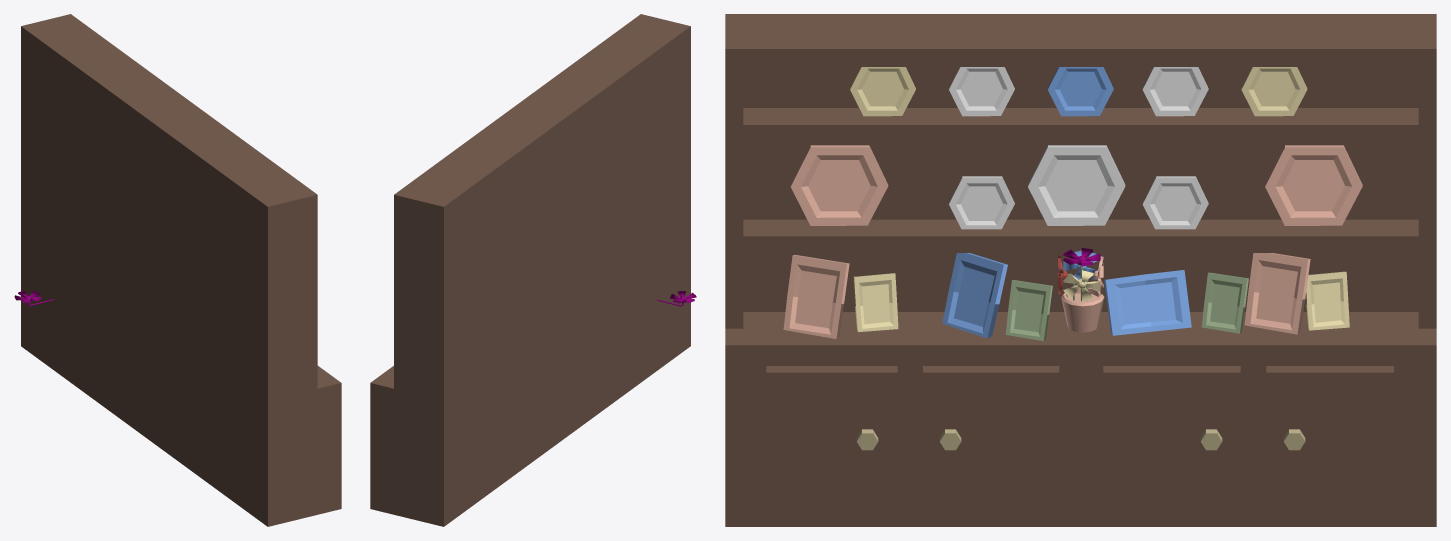
The model's file is geo_ChinaCabinet_01.fbx.
The picture shows the model from 3 angles, left to right: view 1: azimuth 30°, elevation 25°; view 2: azimuth 150°, elevation 25°; view 3: azimuth 270°, elevation 25°; orthographic projection. The views are drawn at different scales.
Parts seen in each view (by area): view 1: geo_CabinetDinning_01; view 2: geo_CabinetDinning_01; view 3: geo_CabinetDinning_01, geo_Plate03, geo_Plate01, geo_Plate02, geo_photoframe_17, geo_photoframe_14, geo_photoframe_20, geo_photoframe_18, geo_Plate04, geo_Plate05, geo_Plate09, geo_Plate06 (+8 smaller).
Boxes of the visible parts, <box> form: geo_CabinetDinning_01: <box>21,14,341,526</box>; geo_CabinetDinning_01: <box>370,14,690,526</box>; geo_CabinetDinning_01: <box>725,14,1436,526</box>; geo_Plate03: <box>1028,145,1125,225</box>; geo_Plate01: <box>790,145,888,225</box>; geo_Plate02: <box>1265,145,1362,225</box>; geo_photoframe_17: <box>1104,270,1191,335</box>; geo_photoframe_14: <box>783,255,849,338</box>; geo_photoframe_20: <box>1244,253,1310,334</box>; geo_photoframe_18: <box>942,253,1007,338</box>; geo_Plate04: <box>1142,176,1208,229</box>; geo_Plate05: <box>949,176,1014,229</box>; geo_Plate09: <box>1047,67,1113,116</box>; geo_Plate06: <box>1142,67,1208,116</box>.
Size of the model in its own units: 91.12 by 129 by 180.
